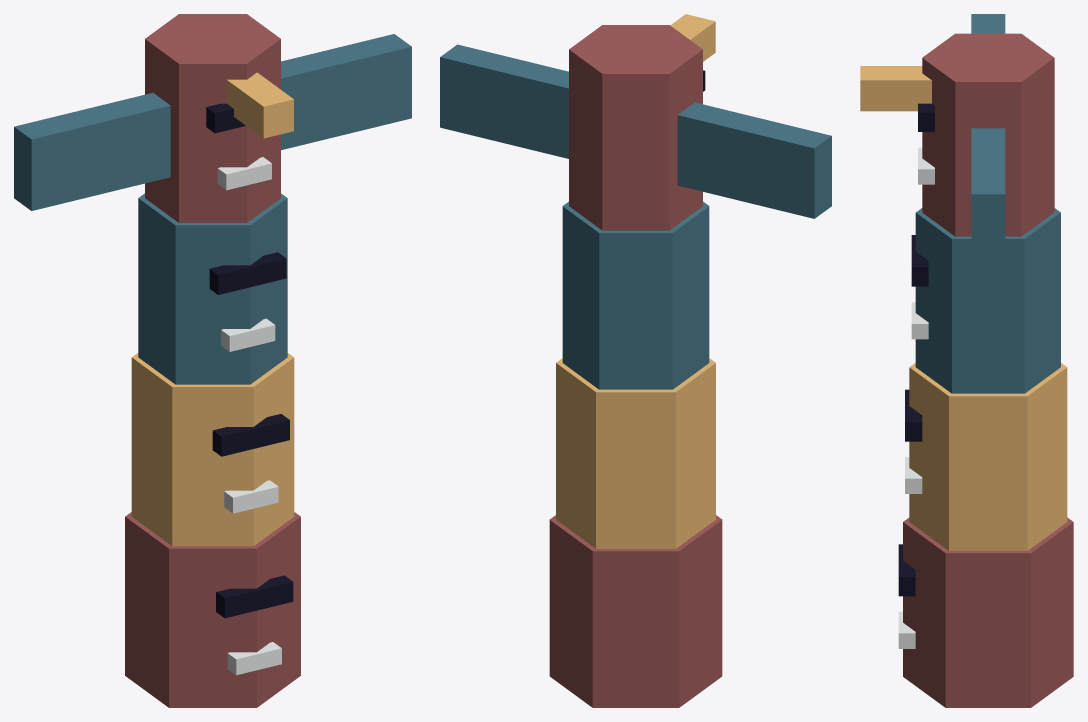
The model's file is totem.glb.
The picture shows the model from 3 angles, left to right: view 1: azimuth 30°, elevation 25°; view 2: azimuth 150°, elevation 25°; view 3: azimuth 270°, elevation 25°; orthographic projection. The views are drawn at different scales.
Visible parts, largest first — view 1: part0, wings, part1, part2, part3, beak, detail_eyes0, detail_eyes2, detail_eyes1, detail_mouth1, detail_mouth3, detail_mouth0 (+2 smaller); view 2: part0, part1, wings, part3, part2, beak; view 3: part0, part1, part2, part3, wings, beak, detail_eyes0, detail_eyes1, detail_eyes2, detail_eyes3, detail_mouth2, detail_mouth0 (+2 smaller).
Boxes of the visible parts, <box> form: part0: <box>125,512,300,707</box>; wings: <box>14,34,411,210</box>; part1: <box>131,353,294,546</box>; part2: <box>138,193,287,384</box>; part3: <box>145,14,280,222</box>; beak: <box>226,72,293,138</box>; detail_eyes0: <box>216,575,293,618</box>; detail_eyes2: <box>209,252,286,294</box>; detail_eyes1: <box>212,414,289,456</box>; detail_mouth1: <box>224,480,278,513</box>; detail_mouth3: <box>217,157,271,190</box>; detail_mouth0: <box>227,642,281,675</box>; part0: <box>549,515,722,707</box>; part1: <box>556,358,715,548</box>; wings: <box>440,44,831,218</box>; part3: <box>569,25,702,230</box>; part2: <box>562,201,709,389</box>; beak: <box>670,14,715,61</box>; part0: <box>903,517,1073,707</box>; part1: <box>909,363,1067,550</box>; part2: <box>915,208,1060,393</box>; part3: <box>922,33,1054,236</box>; wings: <box>971,14,1005,263</box>; beak: <box>860,66,931,111</box>; detail_eyes0: <box>898,544,915,596</box>; detail_eyes1: <box>905,389,922,441</box>; detail_eyes2: <box>911,235,928,286</box>; detail_eyes3: <box>918,103,934,131</box>; detail_mouth2: <box>911,302,928,339</box>; detail_mouth0: <box>898,611,915,648</box>.
Bounding box in the file's own units: 1 × 1.6 × 0.5.
